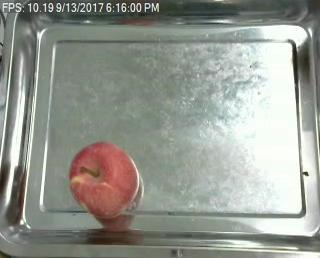apple: (68, 142, 139, 219)
